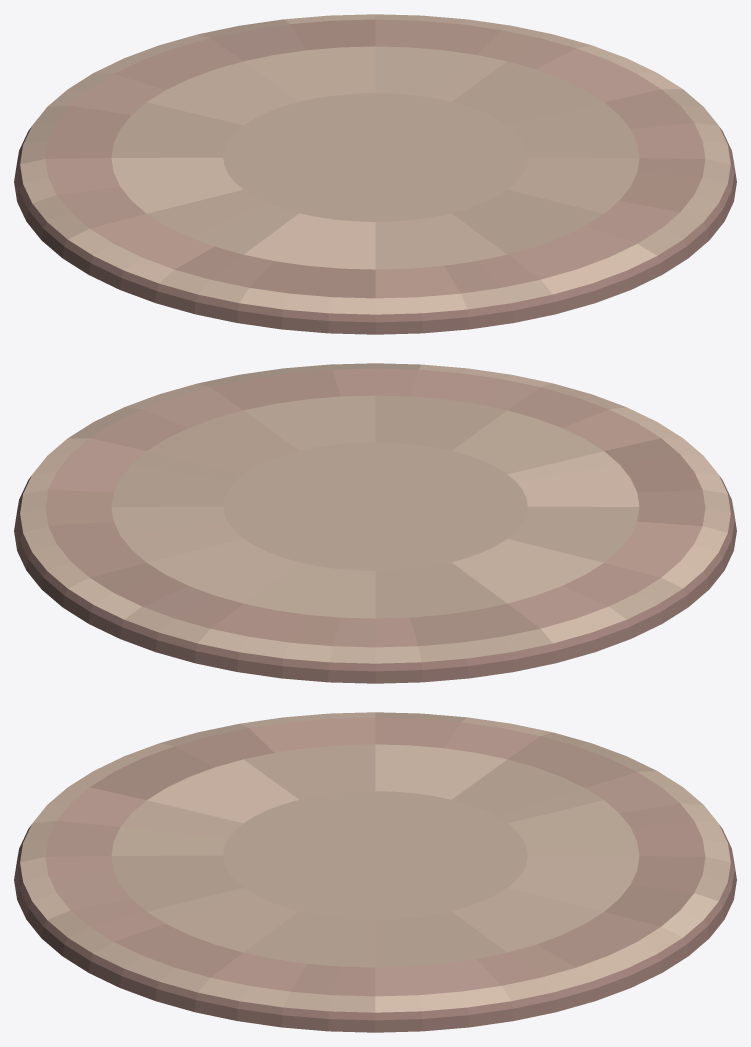
The model's file is SM_Podium.fbx.
The picture shows the model from 3 angles, top to bottom: view 1: azimuth 30°, elevation 25°; view 2: azimuth 150°, elevation 25°; view 3: azimuth 270°, elevation 25°; orthographic projection.
Visible parts, largest first — view 1: SM_Podium; view 2: SM_Podium; view 3: SM_Podium.
Boxes of the visible parts, x1,y1,x2,y2 form: SM_Podium: (14, 14, 736, 334); SM_Podium: (14, 363, 736, 683); SM_Podium: (14, 712, 736, 1032).
Bounding box in the file's own units: 142 × 5.4 × 142.
